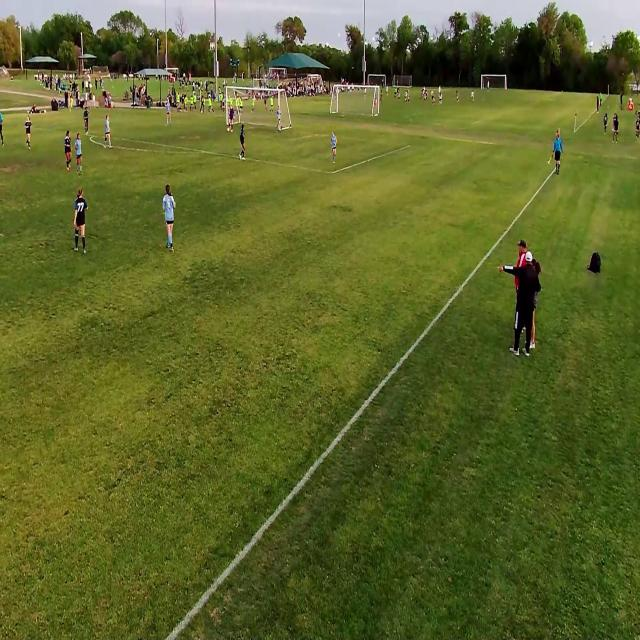ball: (226, 127, 230, 133)
team1: (75, 190, 90, 254), (63, 130, 72, 170), (239, 120, 247, 159), (25, 114, 32, 148), (85, 104, 91, 136)
team2: (163, 188, 177, 254), (76, 136, 84, 173), (103, 114, 111, 150), (331, 130, 338, 162), (276, 104, 282, 136), (166, 96, 172, 124)
